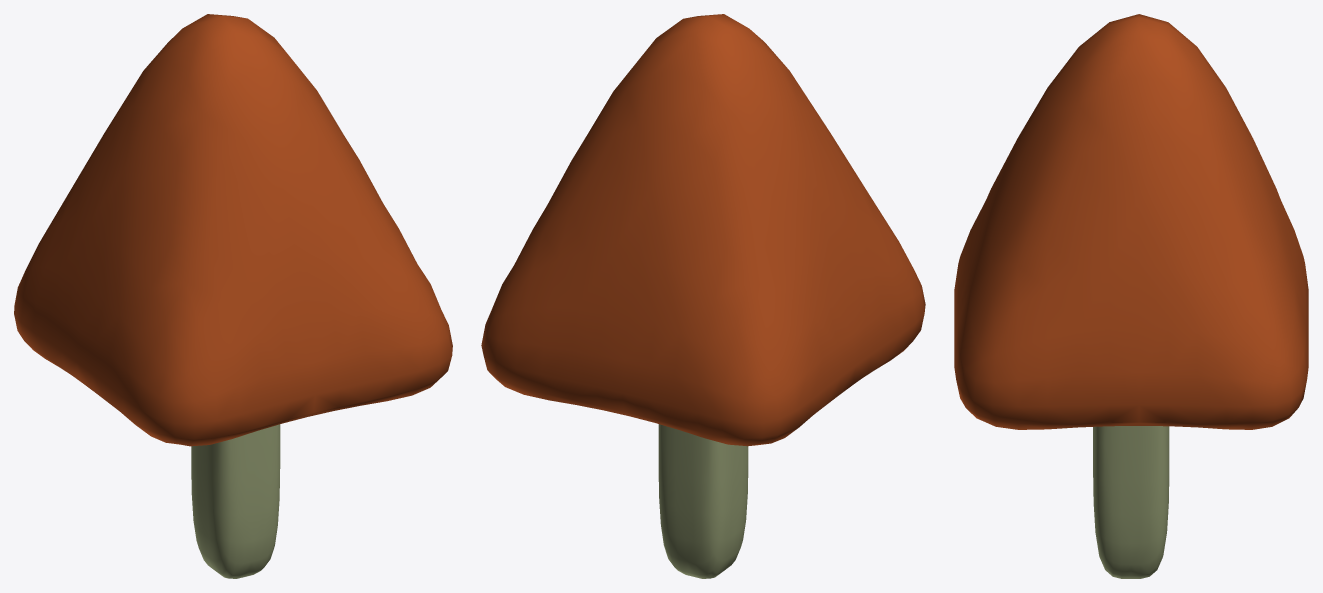
The model's file is Mushrom 2.fbx.
3 renders of one model, left to right at view 1: azimuth 30°, elevation 25°; view 2: azimuth 150°, elevation 25°; view 3: azimuth 270°, elevation 25°, orthographic.
Parts seen in each view (by area): view 1: Cube; view 2: Cube; view 3: Cube.
Boxes of the visible parts, left/top/right/bottom form: Cube: left=14, top=14, right=452, bottom=578; Cube: left=481, top=14, right=925, bottom=578; Cube: left=954, top=14, right=1308, bottom=578.
Bounding box in the file's own units: 196 × 336 × 196.
